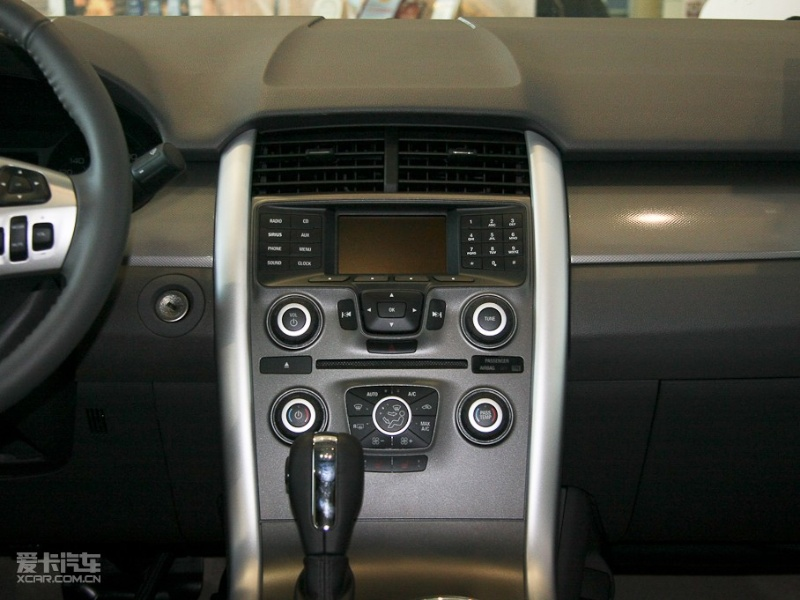control_center: (216, 92, 555, 445)
gear_lever: (254, 425, 426, 600)
odometer: (15, 79, 182, 192)
steering_wheel: (6, 13, 203, 422)
